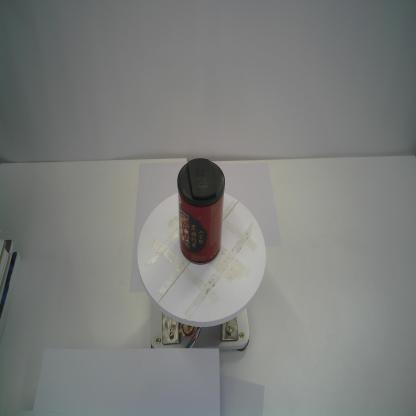Canned Food: (176, 158, 227, 266)
